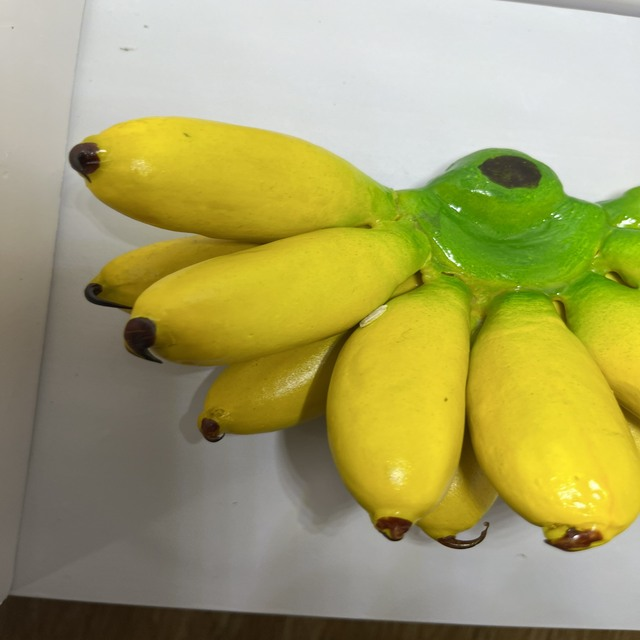Chuoi: (60, 114, 640, 557)
